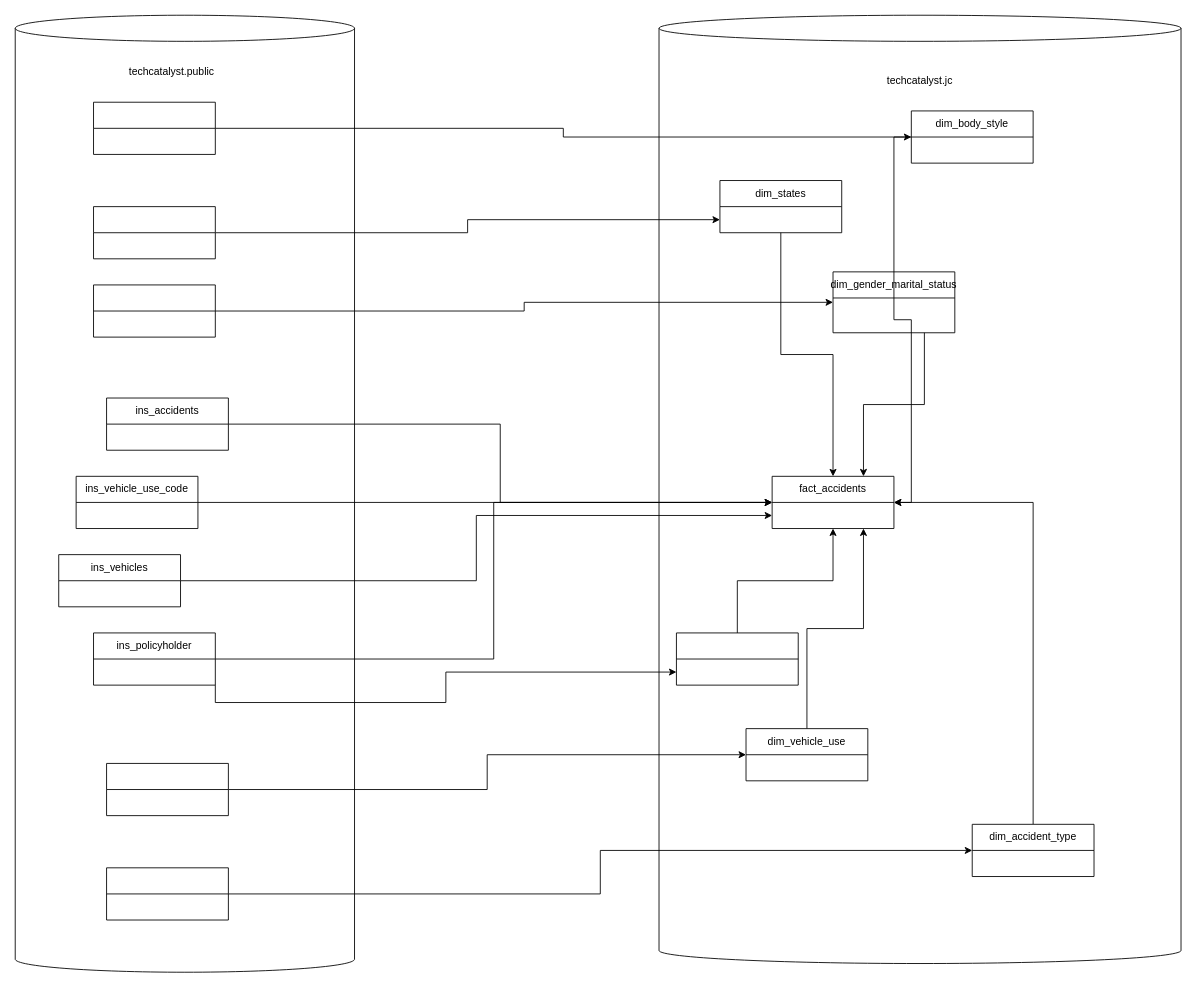
Some shapes in this 1196 by 987 pixel diagram are drawn without their labels. Here are the shapes that lost their labels. From the top down, the centre of each, then its label:
At (154,127): "Ins_body_style".
At (154,232): "ins_states".
At (154,310): "ins_gender_marital_stats".
At (737,658): "dim_policyholder".
At (167,789): "ins_vehicle_use".
At (167,893): "ins_accident_type".
